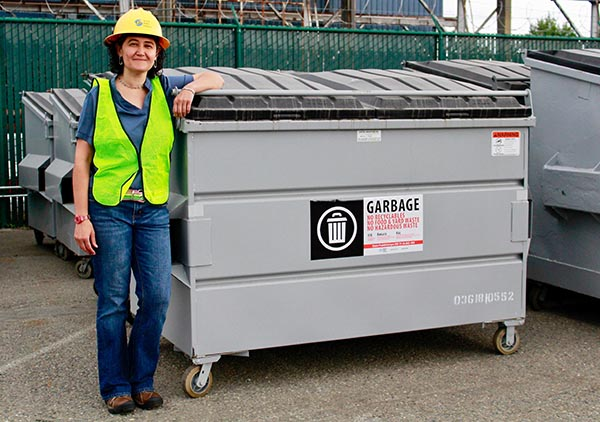Dumpster: (149, 62, 542, 360)
Person: (72, 7, 218, 416)
